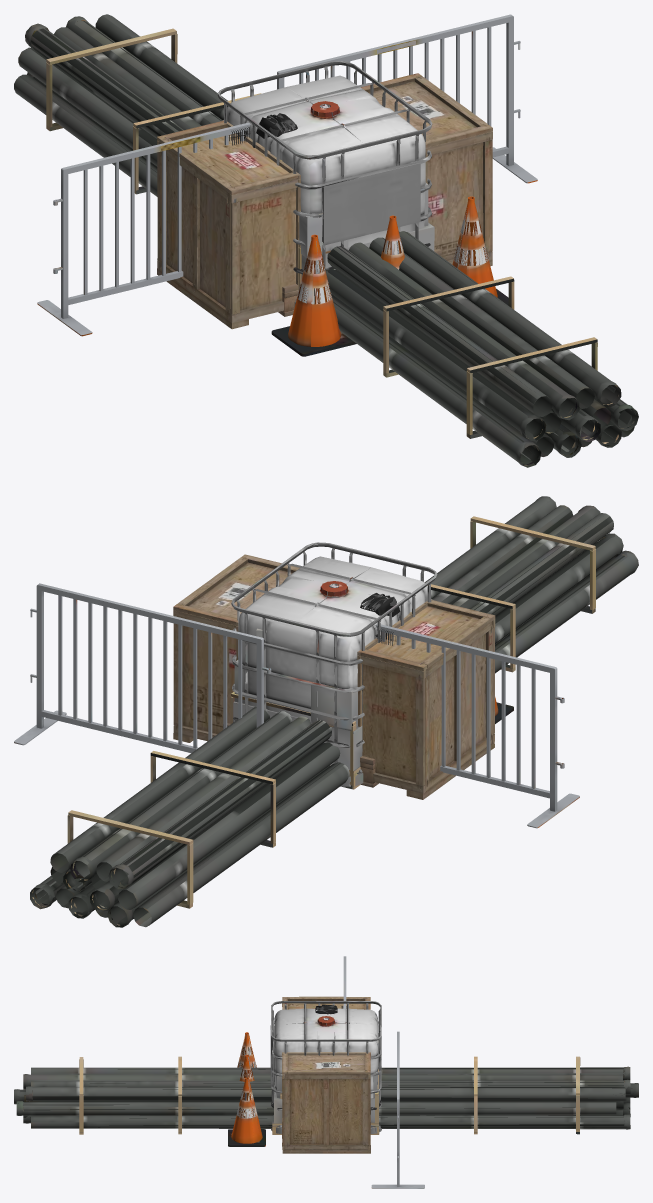
Rendered from simready.glb.
3 views of the same model, one above another, from view 1: azimuth 30°, elevation 25°; view 2: azimuth 150°, elevation 25°; view 3: azimuth 270°, elevation 25° (orthographic). The views are drawn at different scales.
Visible parts, largest first — view 1: sr_pipes__Body, sr_crate_long__Body, sr_ibc__Body, sr_cones__Body, sr_pallet_load__Body, sr_compressor__Body, sr_crate__Body; view 2: sr_pipes__Body, sr_crate_long__Body, sr_cones__Body, sr_ibc__Body, sr_pallet_load__Body, sr_compressor__Body, sr_crate__Body; view 3: sr_pipes__Body, sr_crate_long__Body, sr_ibc__Body, sr_cones__Body, sr_pallet_load__Body, sr_crate__Body.
Part boxes in pixels (bbox=[...]): sr_pipes__Body: bbox=[14, 14, 638, 467]; sr_crate_long__Body: bbox=[157, 73, 492, 329]; sr_ibc__Body: bbox=[217, 61, 432, 306]; sr_cones__Body: bbox=[37, 14, 537, 356]; sr_pallet_load__Body: bbox=[299, 182, 434, 278]; sr_compressor__Body: bbox=[228, 113, 297, 145]; sr_crate__Body: bbox=[223, 120, 427, 285]; sr_pipes__Body: bbox=[30, 496, 638, 927]; sr_crate_long__Body: bbox=[173, 554, 495, 799]; sr_cones__Body: bbox=[14, 583, 579, 828]; sr_ibc__Body: bbox=[231, 542, 437, 787]; sr_pallet_load__Body: bbox=[233, 628, 362, 789]; sr_compressor__Body: bbox=[360, 593, 400, 645]; sr_crate__Body: bbox=[236, 599, 431, 726]; sr_pipes__Body: bbox=[14, 1056, 638, 1134]; sr_crate_long__Body: bbox=[282, 996, 370, 1153]; sr_ibc__Body: bbox=[270, 1001, 381, 1133]; sr_cones__Body: bbox=[228, 956, 424, 1188]; sr_pallet_load__Body: bbox=[272, 1040, 378, 1134]; sr_crate__Body: bbox=[281, 1052, 370, 1098].
Bounding box in the file's own units: 3.92 × 1.2 × 7.02.
20 materials, 20 textured.
